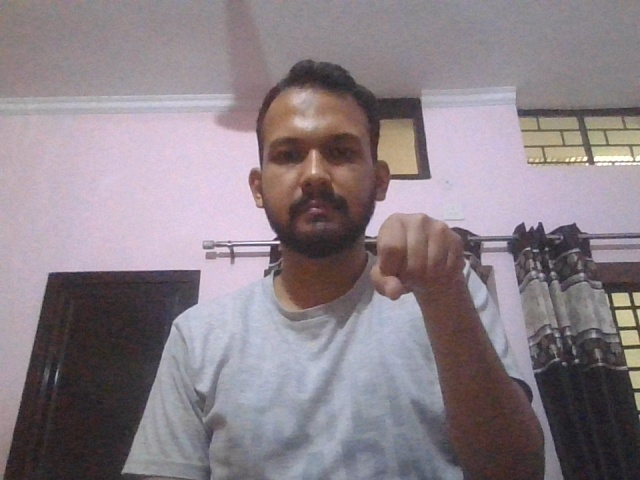yes: (369, 213, 469, 307)
